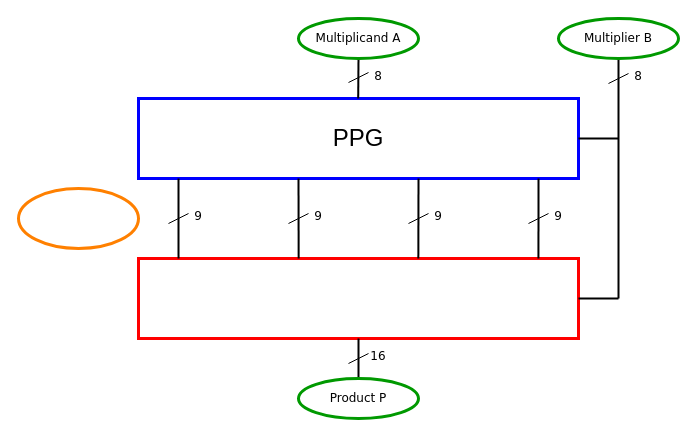
The diagram is 697 pixels wide and 437 high, and some of its shapes have lost their labels. Each missing label, with the box of its shape:
Partial products PPS: (16, 186, 140, 250)
PPA: (136, 256, 580, 340)
